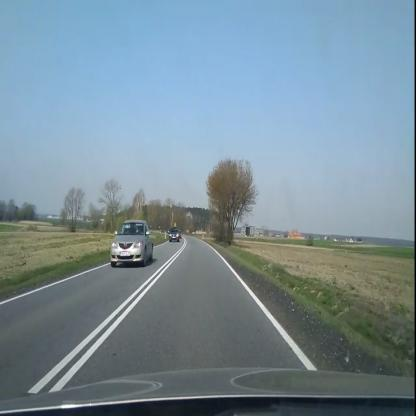cars: (110, 219, 154, 267), (170, 227, 180, 242)
